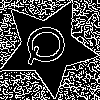Q: (22, 22, 76, 67)
